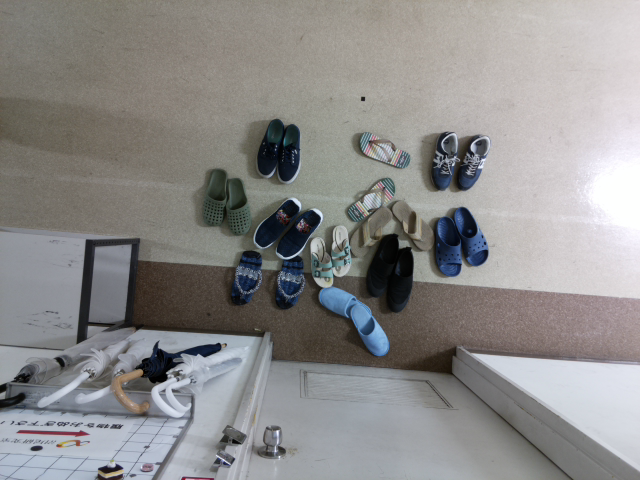Copy of Copy of Copy of Copy of Copy of Copy of Copy of Copy of Copy of Copy of: (251, 192, 303, 252), (272, 205, 327, 261), (380, 244, 418, 315), (344, 175, 397, 225), (362, 230, 400, 296), (347, 299, 389, 358), (350, 202, 395, 257), (356, 129, 412, 172), (391, 199, 436, 251), (456, 130, 493, 193), (317, 286, 373, 325), (425, 128, 459, 192)
Copy of Copy of Copy of Copy of Copy of Copy of Copy of Copy of Copy of shoe: (429, 215, 464, 278)
Copy of Copy of Copy of Copy of Copy of Copy of Copy of Copy of shoe: (453, 204, 494, 268)
Copy of Copy of Copy of Copy of Copy of Copy of Copy of shoe: (317, 222, 355, 282)
Copy of Copy of Copy of Copy of Copy of Copy of shoe: (301, 233, 339, 293)
Copy of Copy of Copy of Copy of Copy of shoe: (269, 253, 306, 312)
Copy of Copy of Copy of Copy of shoe: (226, 247, 264, 309)
Copy of Copy of Copy of shoe: (195, 167, 229, 229)
Copy of Copy of shoe: (225, 173, 254, 237)
Copy of shoe: (252, 117, 284, 179)
shoe: (276, 117, 304, 187)
